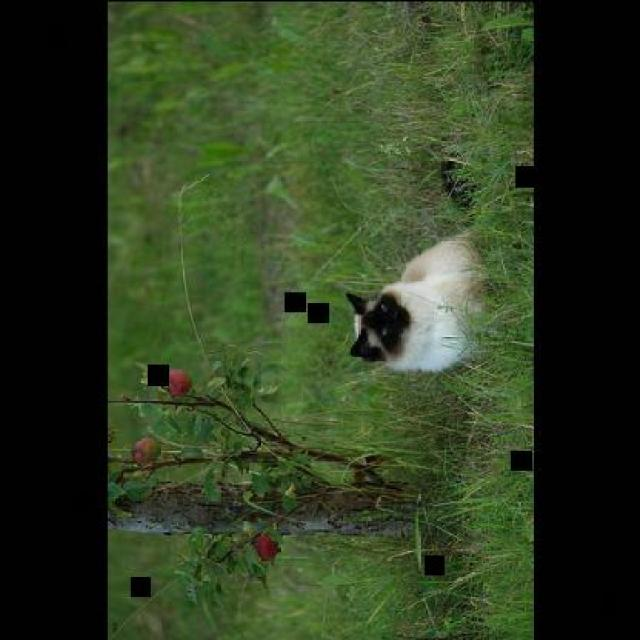unauthorized: (343, 229, 488, 374)
